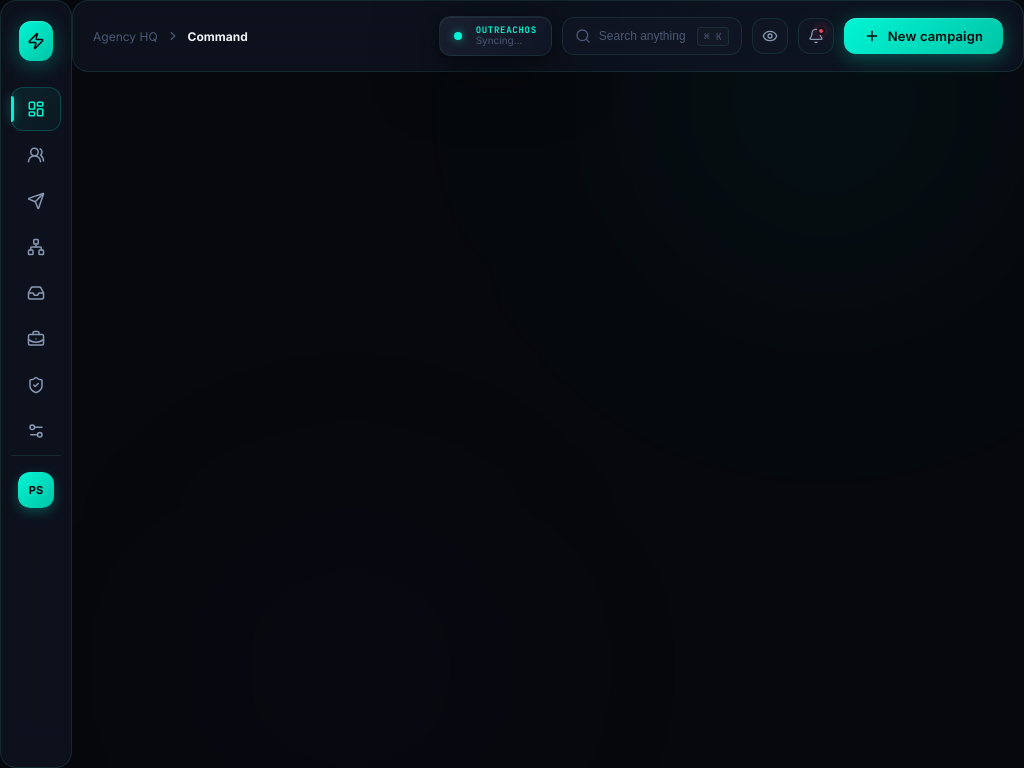
Test case: Outr application shell › renders the command center and navigates to campaign studio
Click the 3rd button named "Campaigns". click: point(36, 201)
box: [11, 179, 61, 223]
(page scrolled)
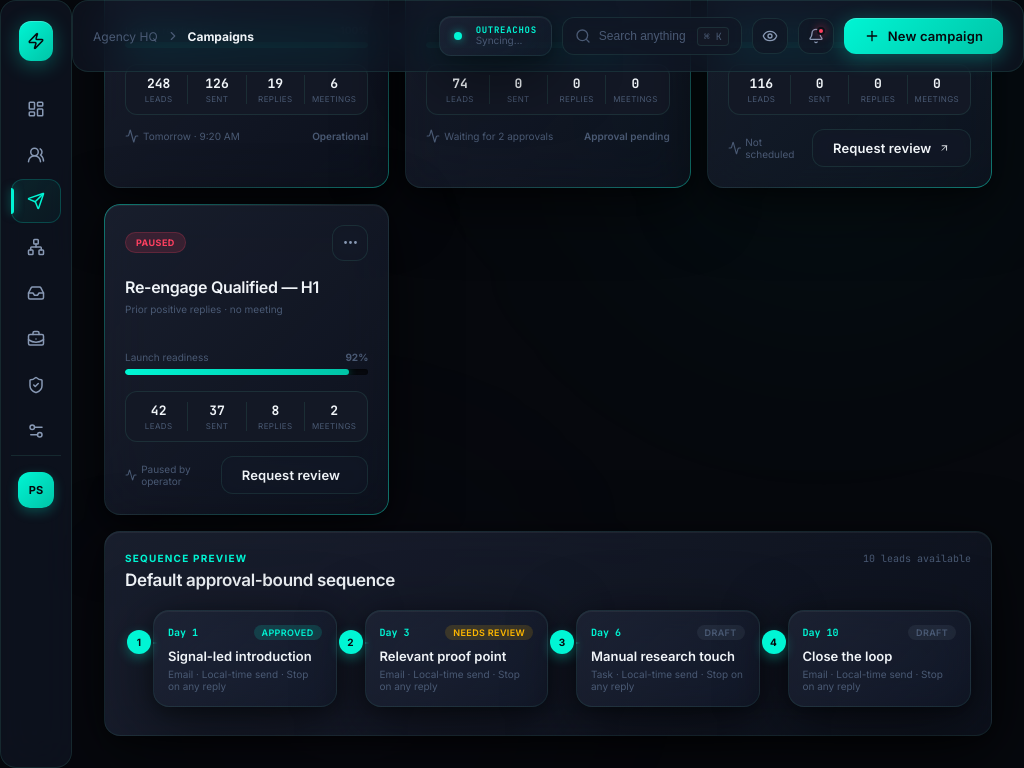
Expected: the heading "Default approval-bound sequence" is shown, [125, 570, 395, 590]
